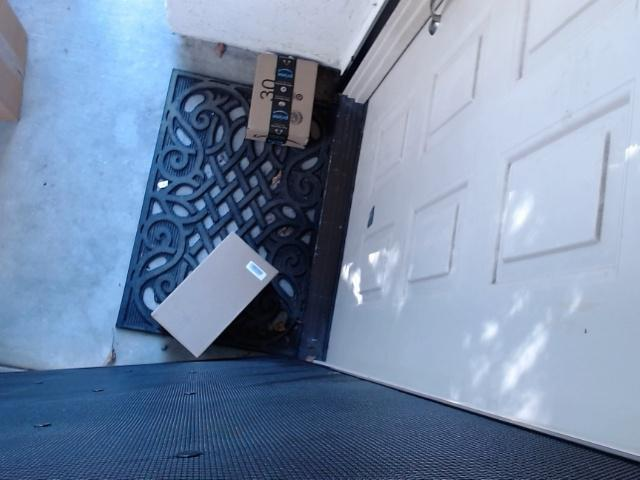box: (145, 225, 321, 363), (202, 36, 334, 148)
